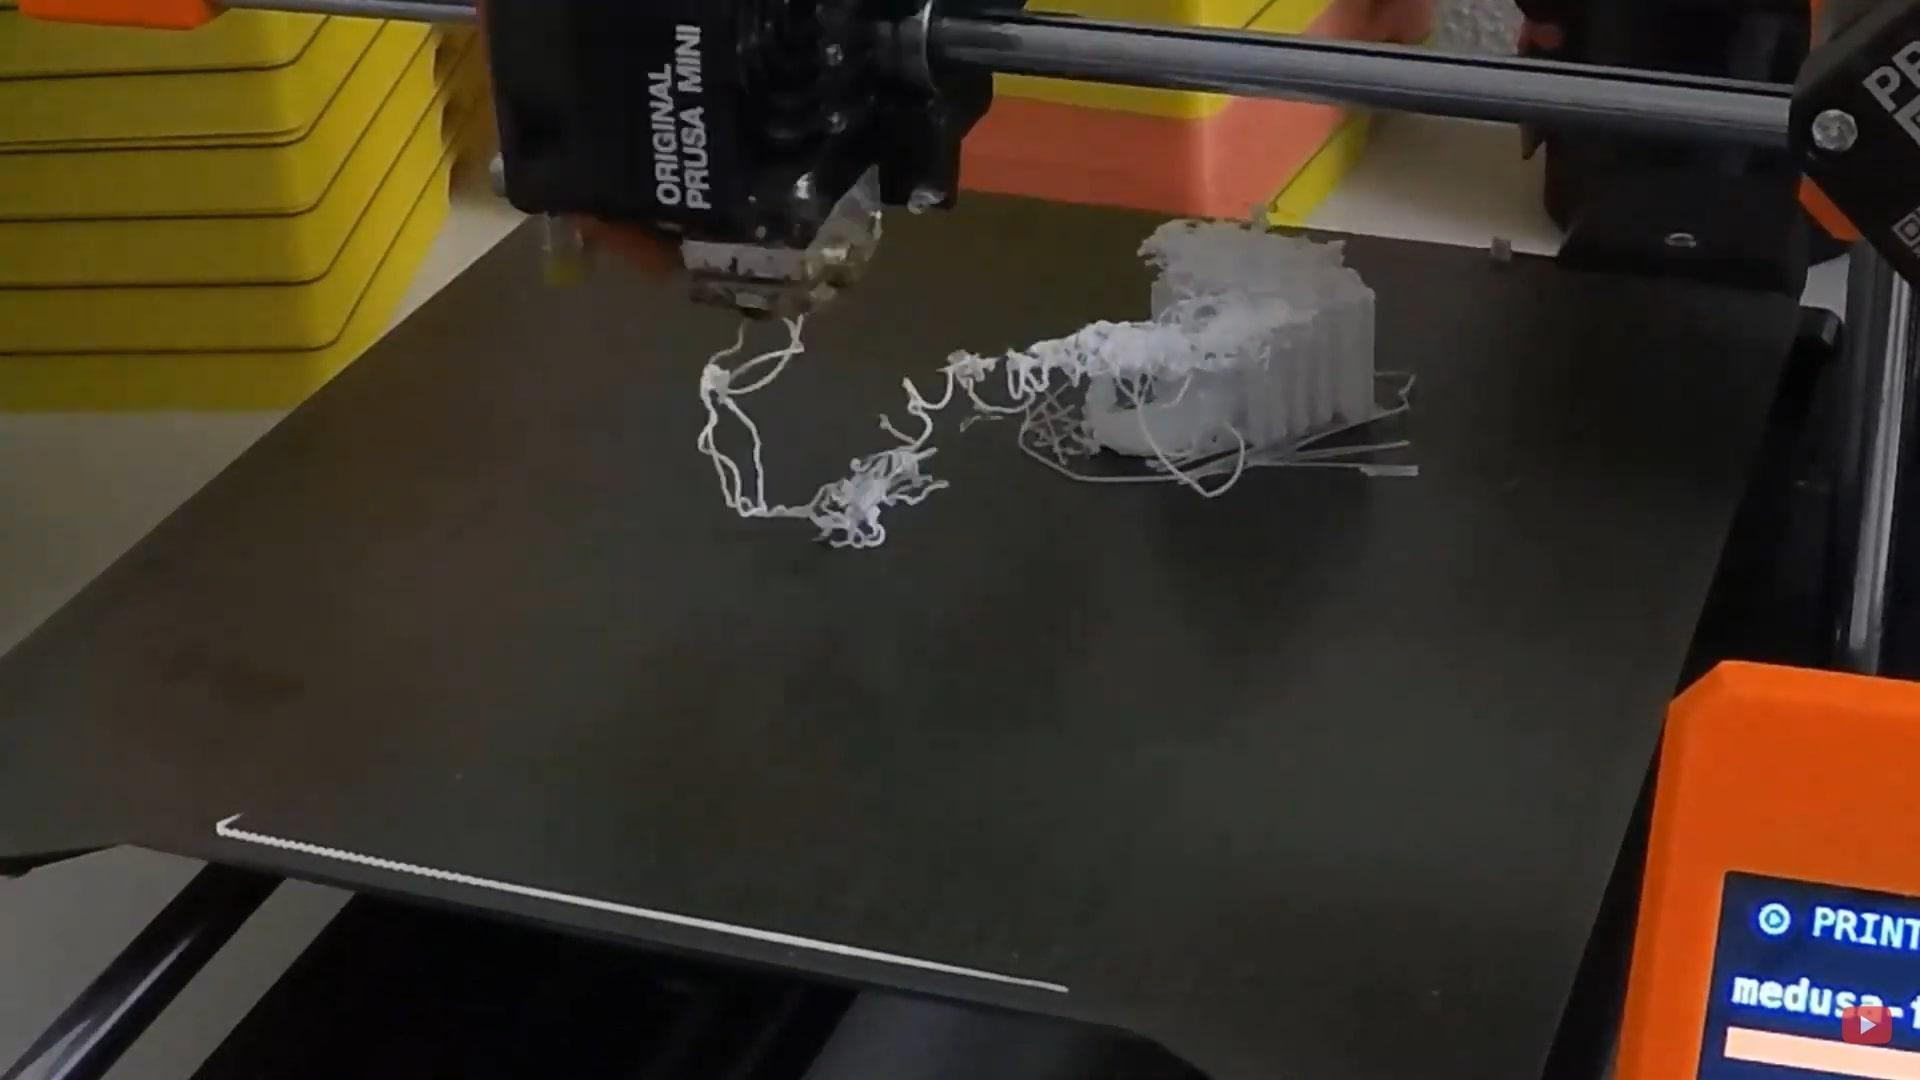Printing-Artifact: (670, 302, 1088, 587)
